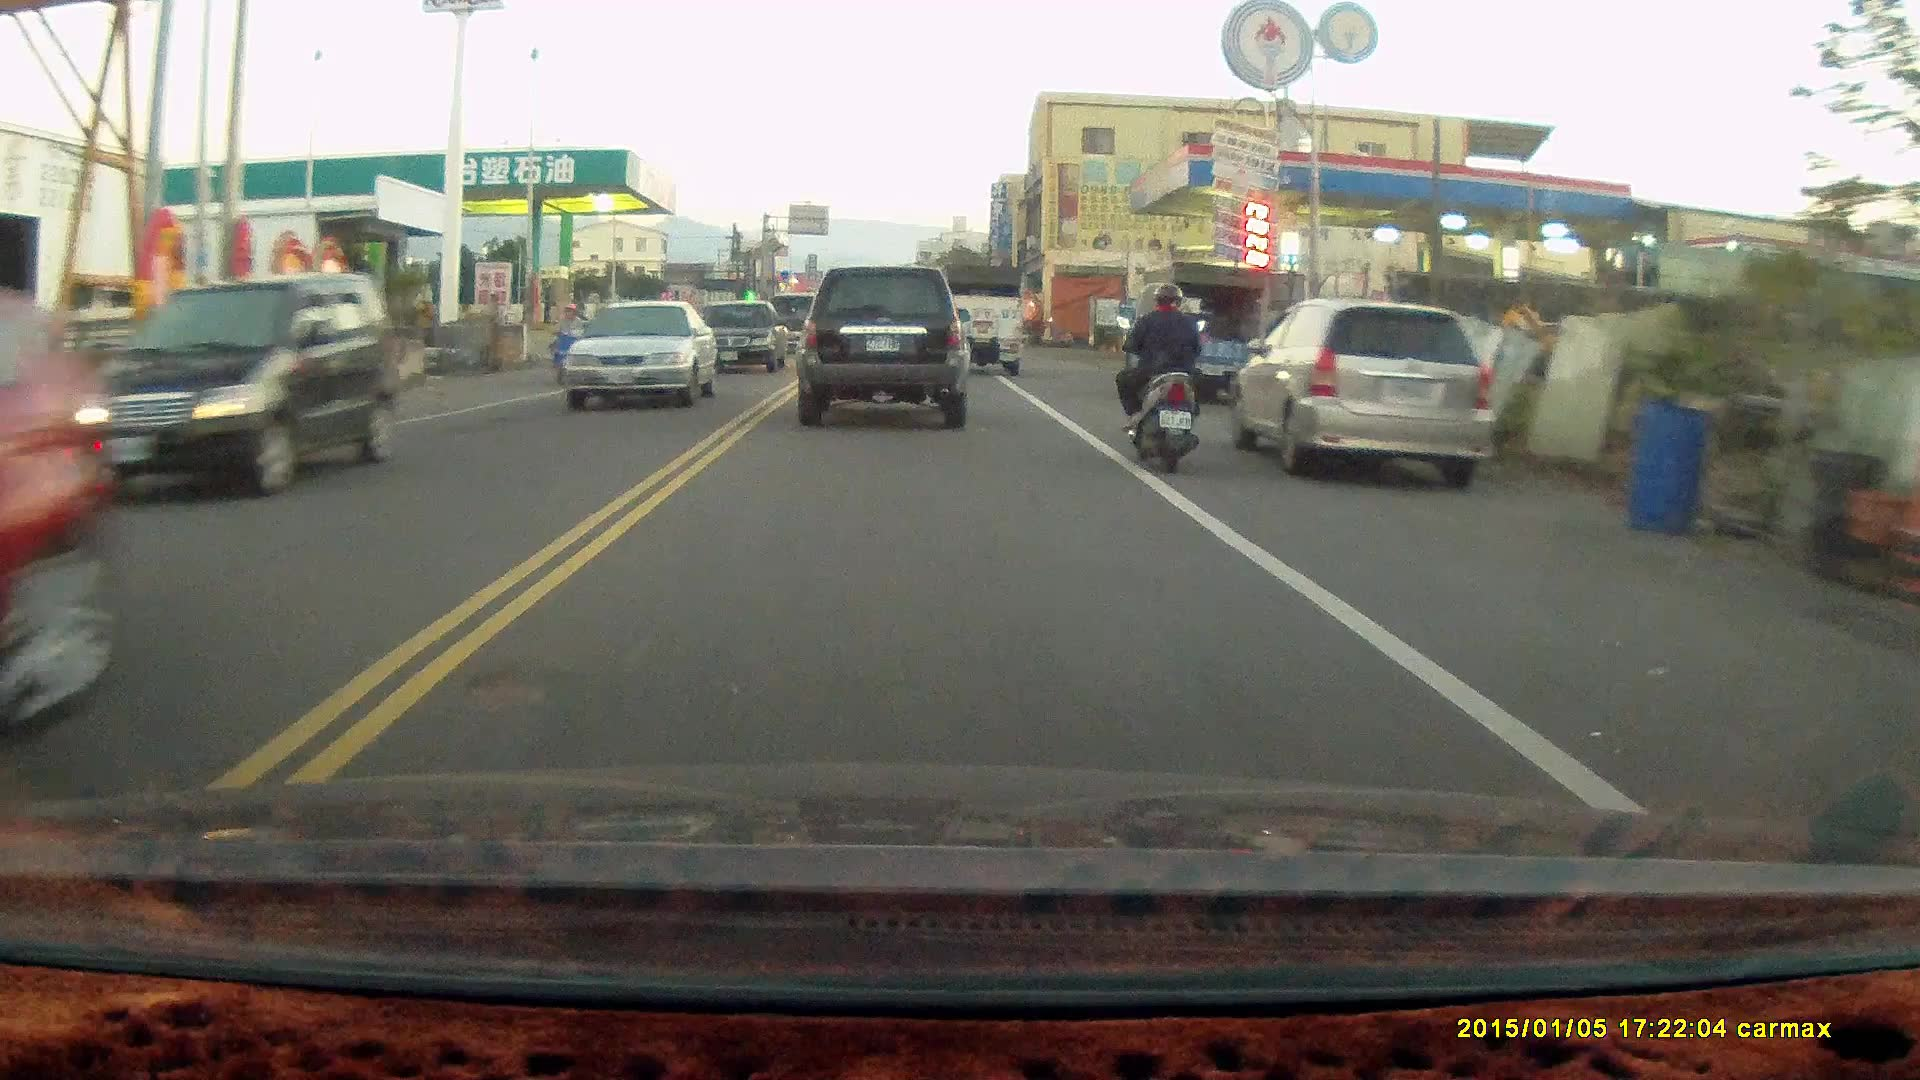rider: (1111, 280, 1208, 470)
vehicle: (42, 273, 391, 506), (1, 290, 125, 738), (1237, 295, 1495, 490), (794, 266, 971, 430), (1120, 257, 1267, 396), (559, 298, 720, 410), (938, 259, 1023, 375), (700, 297, 790, 371)
